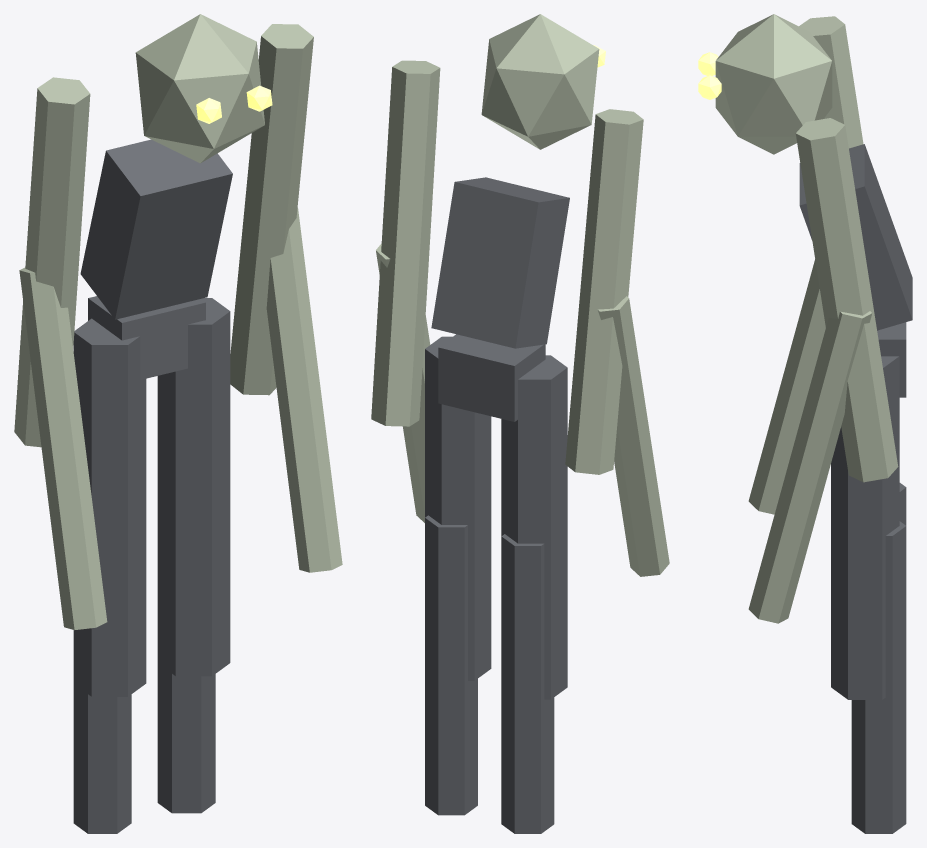
File: walker.glb
3 renders of one model, left to right at view 1: azimuth 30°, elevation 25°; view 2: azimuth 150°, elevation 25°; view 3: azimuth 270°, elevation 25°, orthographic. The views are drawn at different scales.
Visible parts, largest first — view 1: walker; view 2: walker; view 3: walker.
Part boxes in pixels (box(x1,y1,x2,y2)): walker: box(14, 14, 342, 833); walker: box(371, 14, 669, 833); walker: box(698, 14, 912, 833).
Bounding box in the file's own units: 0.6379 × 1.91 × 0.4694.
